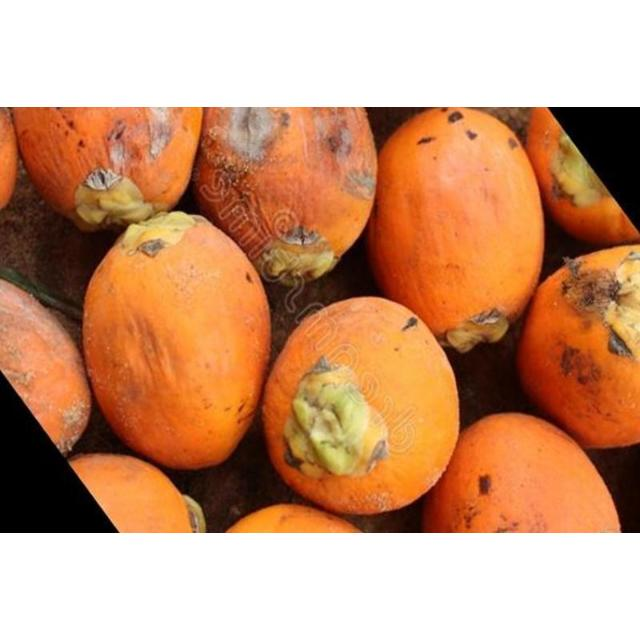good: (79, 172, 278, 474), (364, 107, 547, 356), (260, 298, 462, 519), (186, 107, 380, 287), (516, 246, 639, 451), (418, 415, 622, 533)
